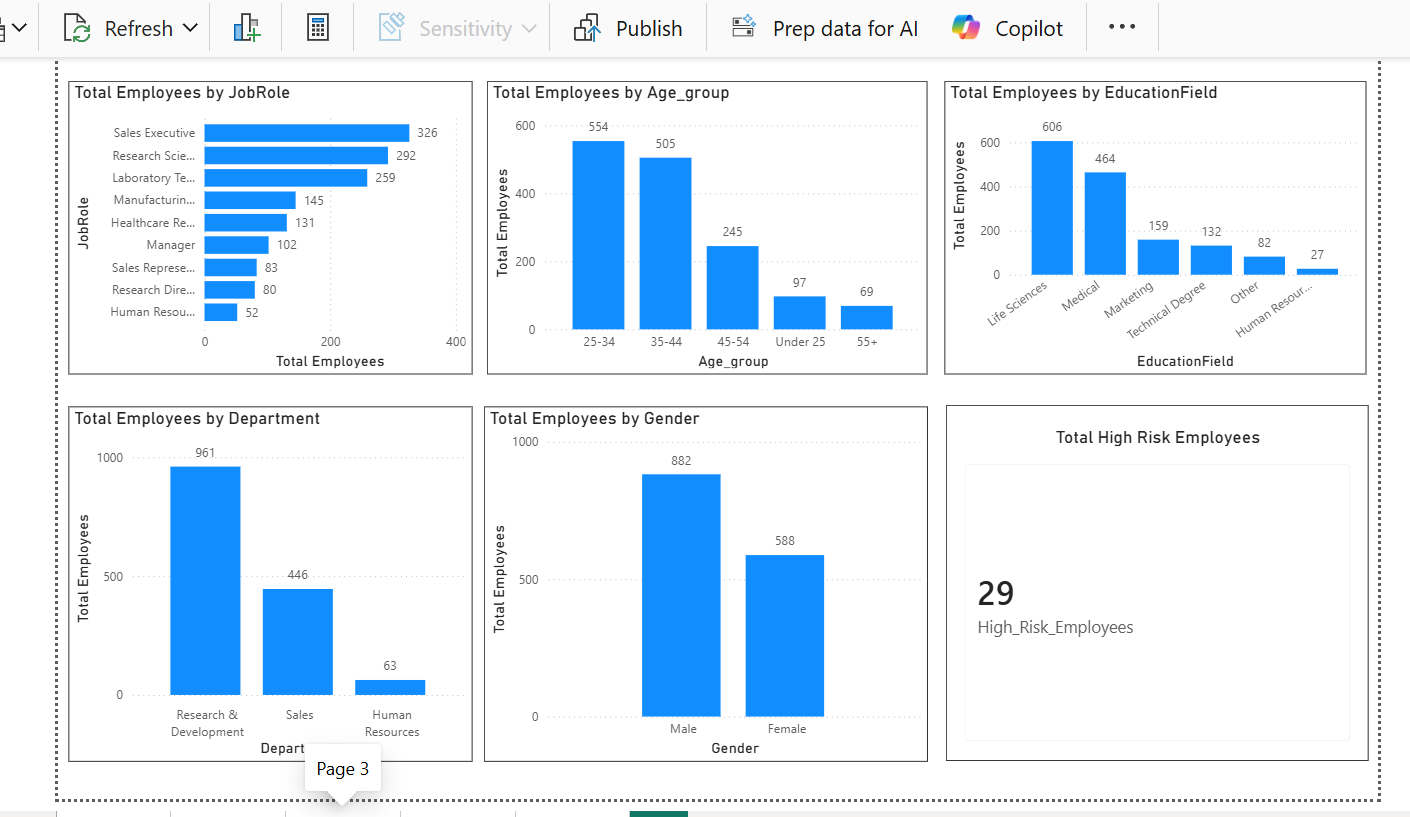

What the dashboard file says about the page in this screenshot:
{"tool":"powerbi","page":{"name":"Page 3","canvas":[1280,720],"ordinal":2},"visuals":[{"type":"clusteredBarChart","fields":{"Category":["employees.JobRole"],"Y":["employees.Total Employees"]},"box":[9.7,22.7,391.9,285],"z":0},{"type":"clusteredColumnChart","fields":{"Y":["employees.Total Employees"],"Category":["employees.Department"]},"box":[9.7,338.4,391.9,344.9],"z":1000},{"type":"clusteredColumnChart","fields":{"Y":["employees.Total Employees"],"Category":["employees.Age_group"]},"box":[416.1,22.7,427.5,285],"z":2000},{"type":"clusteredColumnChart","fields":{"Y":["employees.Total Employees"],"Category":["employees.Gender"]},"box":[412.9,338.4,430.7,344.9],"z":3000},{"type":"clusteredColumnChart","fields":{"Y":["employees.Total Employees"],"Category":["employees.EducationField"]},"box":[859.8,22.7,409.7,285],"z":4000},{"type":"cardVisual","title":"Total High Risk Employees","fields":{"Data":["employees.High_Risk_Employees"]},"box":[861,338,410,345],"z":5000}]}

Visuals, with their boxes on the page's 1280x720 design canvas (x1, y1, x2, y2). These are canvas units, not pixel positions in the 1410x817 screenshot, which may show the page scaled, cropped or inside an application window:
clusteredBarChart - employees.JobRole x employees.Total Employees: (10,23,402,308)
clusteredColumnChart - employees.Total Employees x employees.Department: (10,338,402,683)
clusteredColumnChart - employees.Total Employees x employees.Age_group: (416,23,844,308)
clusteredColumnChart - employees.Total Employees x employees.Gender: (413,338,844,683)
clusteredColumnChart - employees.Total Employees x employees.EducationField: (860,23,1270,308)
"Total High Risk Employees" cardVisual: (861,338,1271,683)
